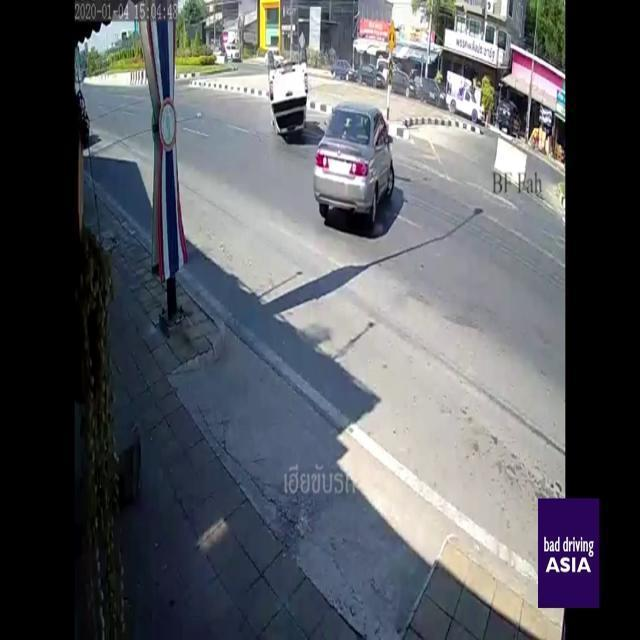accident: (268, 62, 396, 226)
non-accident: (414, 70, 486, 124), (330, 58, 414, 98), (388, 69, 444, 107)
